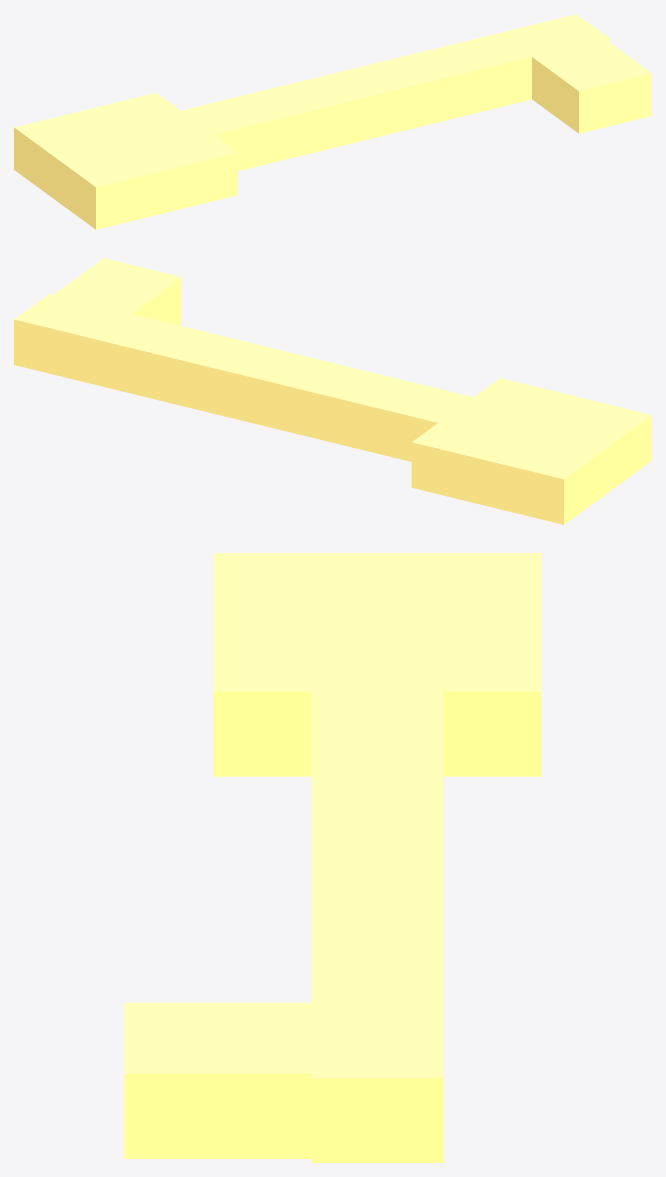
Rendered from morceau_cle.glb.
3 renders of one model, top to bottom at view 1: azimuth 30°, elevation 25°; view 2: azimuth 150°, elevation 25°; view 3: azimuth 270°, elevation 25°, orthographic. The views are drawn at different scales.
Parts seen in each view (by area): view 1: MorceauCle; view 2: MorceauCle; view 3: MorceauCle.
Part boxes in pixels (box(x1,y1,x2,y2)): MorceauCle: box(14, 14, 651, 229); MorceauCle: box(14, 258, 651, 524); MorceauCle: box(124, 553, 541, 1162).
Size of the model in its own units: 0.1325 by 0.01 by 0.0445.
